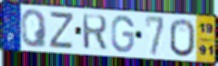7: (144, 14, 166, 58)
G: (110, 15, 136, 55)
O: (168, 18, 196, 59)
Q: (20, 8, 48, 49)
R: (81, 13, 109, 53)
Z: (48, 11, 76, 51)
